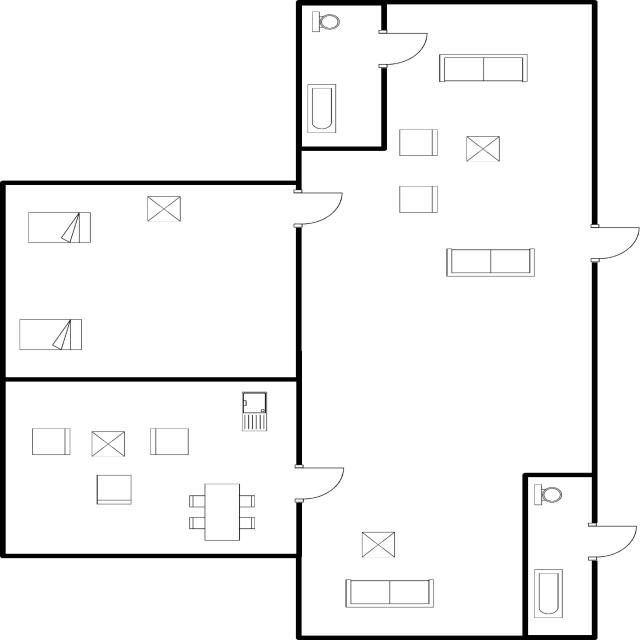bed: (14, 312, 87, 356), (23, 208, 96, 248)
coffee_table: (460, 130, 505, 165), (141, 192, 188, 225), (355, 528, 400, 562), (86, 427, 131, 460)
dining_table: (180, 478, 260, 546)
large_sink: (527, 480, 567, 512), (308, 7, 347, 38)
large_sofa: (335, 574, 442, 612), (438, 242, 540, 280), (433, 49, 533, 86)
sink: (237, 388, 270, 437)
small_sofa: (392, 126, 443, 160), (91, 472, 139, 508), (395, 181, 443, 217), (145, 426, 195, 460), (28, 426, 77, 460)
tub: (302, 78, 343, 138), (528, 565, 568, 622)
